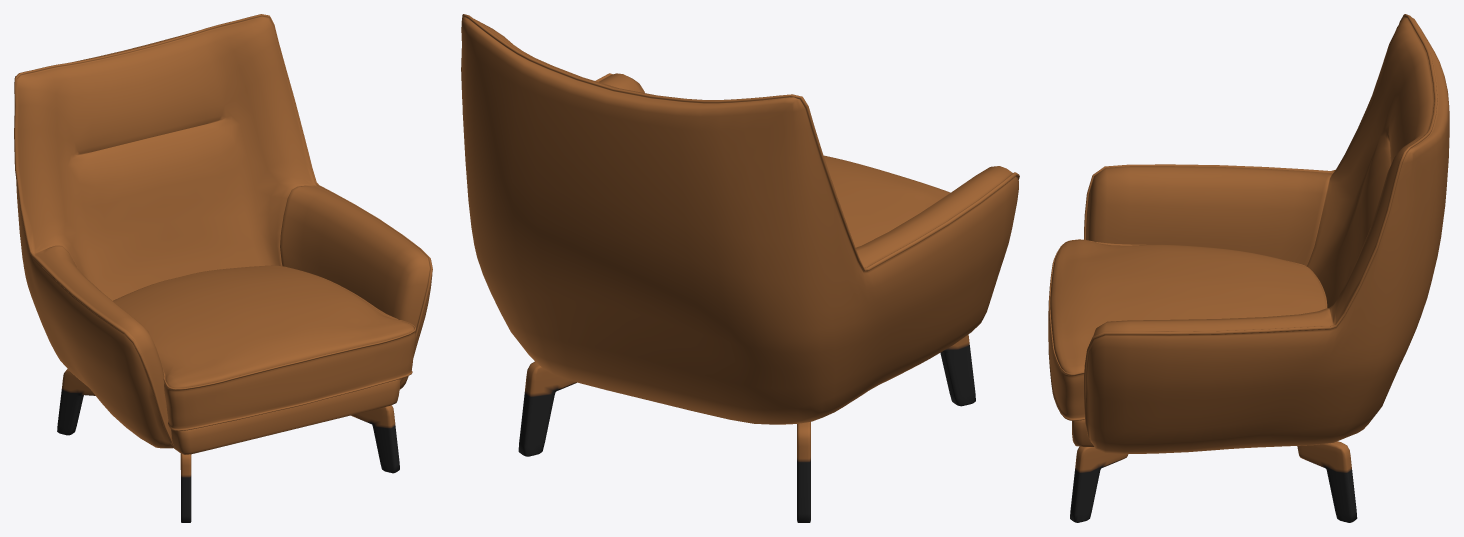
The model's file is armchair_cognac.glb.
3 views of the same model, side by side, from view 1: azimuth 30°, elevation 25°; view 2: azimuth 150°, elevation 25°; view 3: azimuth 270°, elevation 25° (orthographic). The views are drawn at different scales.
Parts seen in each view (by area): view 1: Armchair Willow; view 2: Armchair Willow; view 3: Armchair Willow.
Part boxes in pixels (x1,y1,x2,y2): Armchair Willow: (14, 14, 432, 522); Armchair Willow: (461, 14, 1019, 522); Armchair Willow: (1048, 14, 1449, 522).
Size of the model in its own units: 0.856 by 0.8972 by 0.8525.
